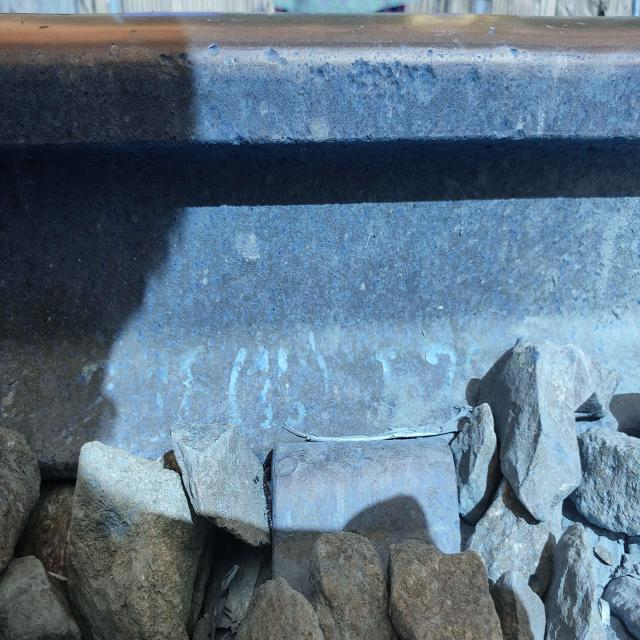Missing Fastener: (229, 395, 501, 623)
